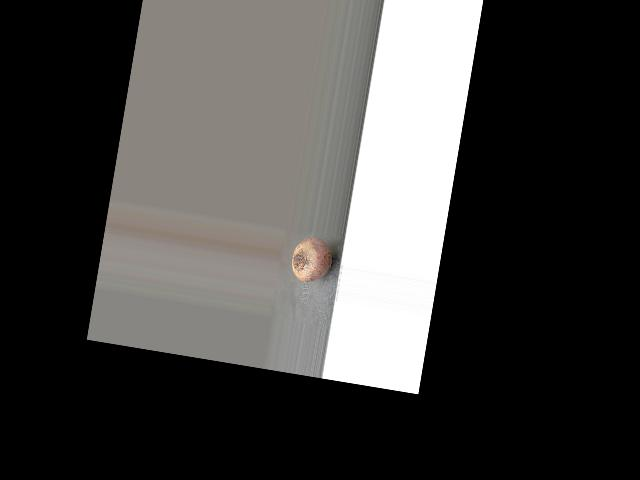beet: (289, 233, 335, 284)
